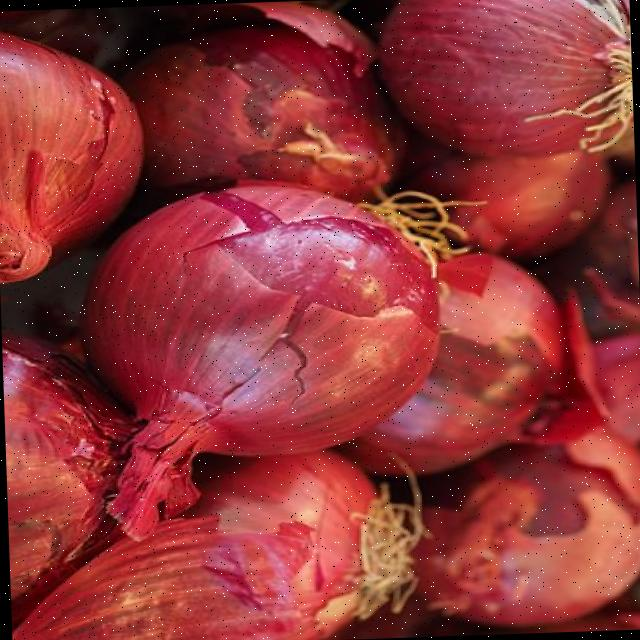Onion: (81, 182, 436, 539), (378, 0, 633, 156), (0, 34, 139, 282)
